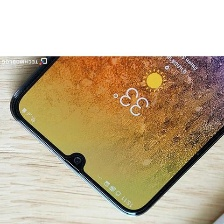phone: (3, 0, 224, 221)
